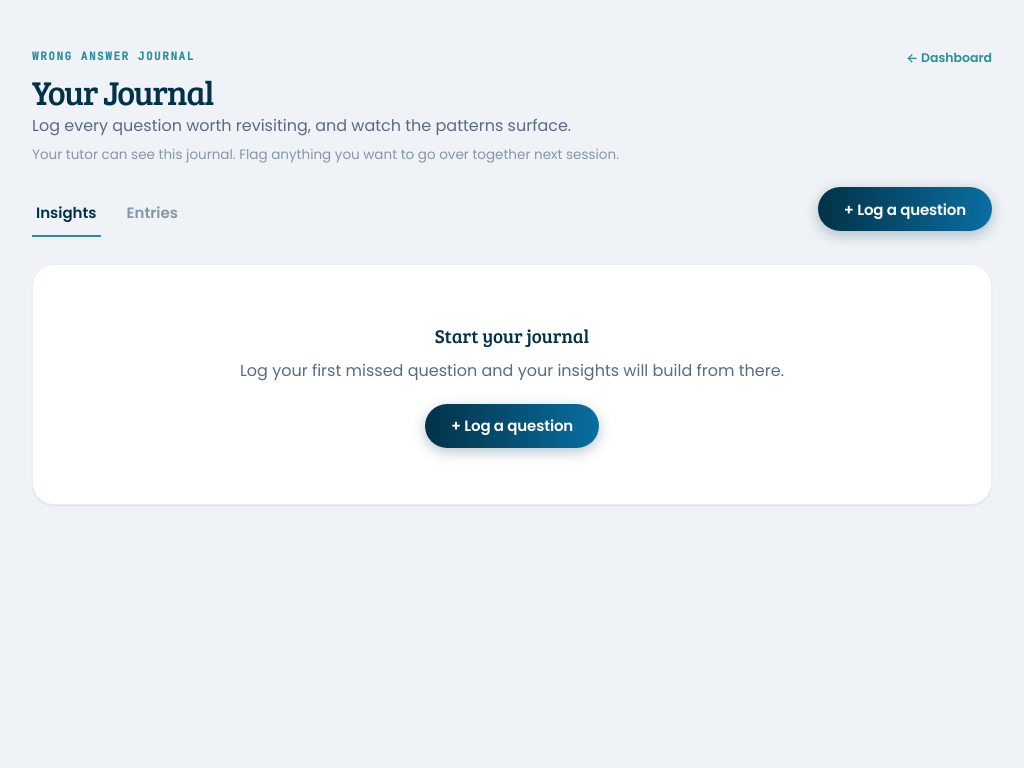
Journal — log modal › inserts a matched LR entry with the bank classification
Click the 1st button "+ Log a question".
click(905, 209)  # box [818,187,992,231]
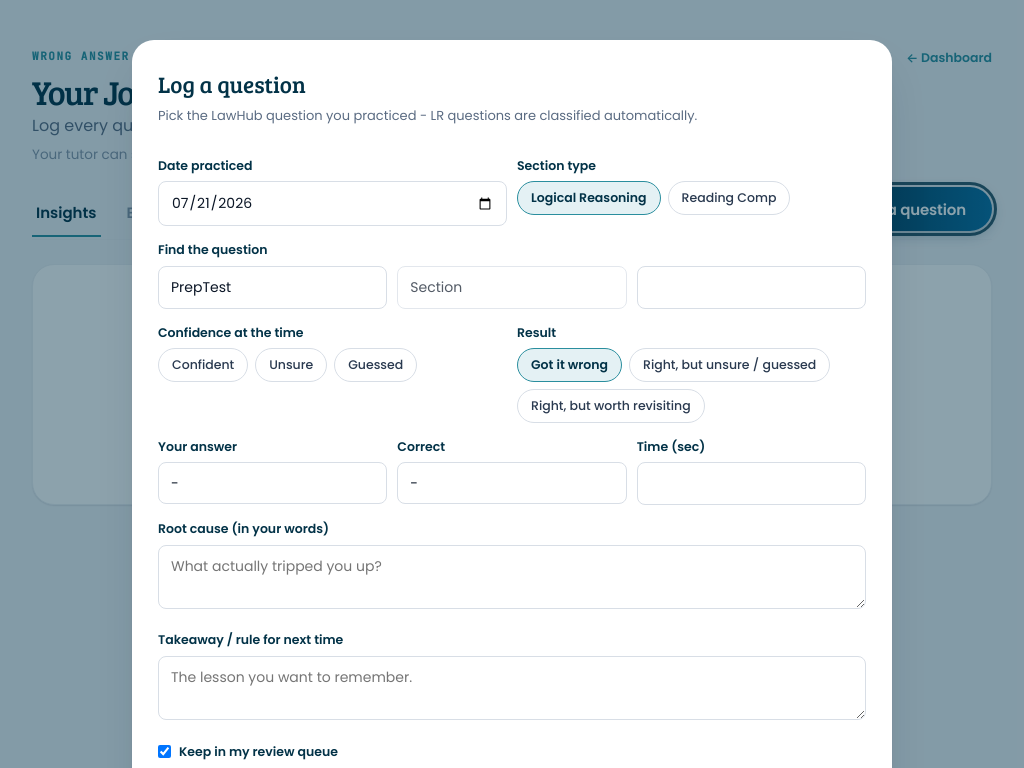
Select "PT 120" in the dropdown named "PrepTest" at (273, 287), box [158,266,387,308]
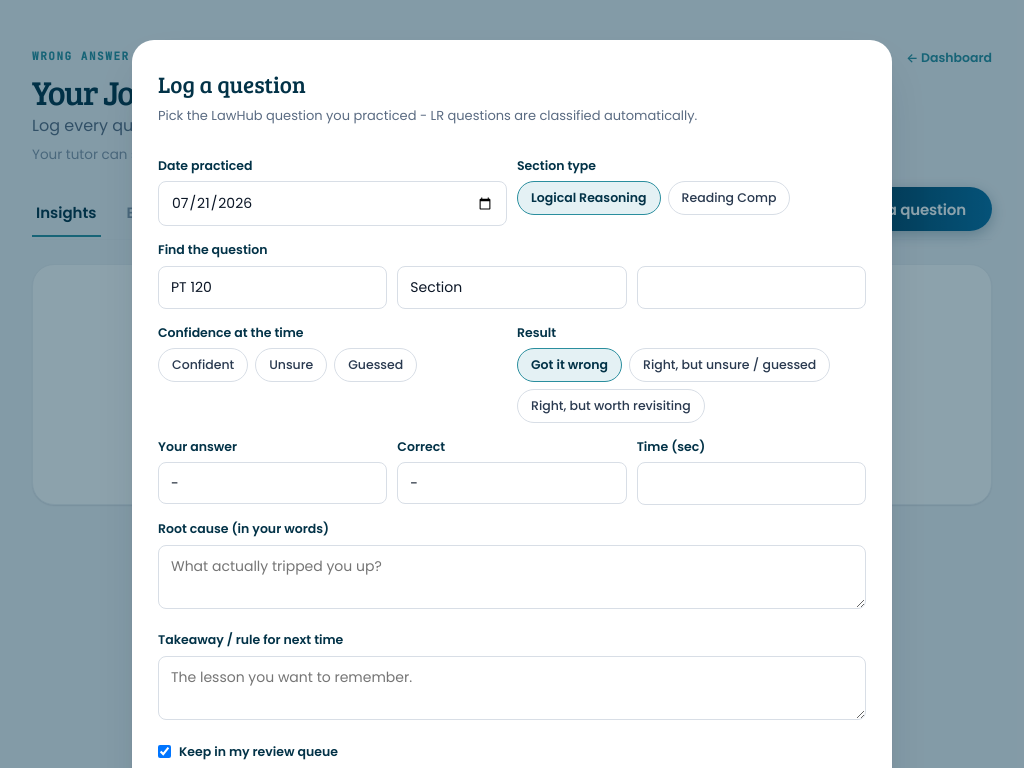
Select "Section 2" in the dropdown named "Section" at (512, 287), box [397,266,627,308]
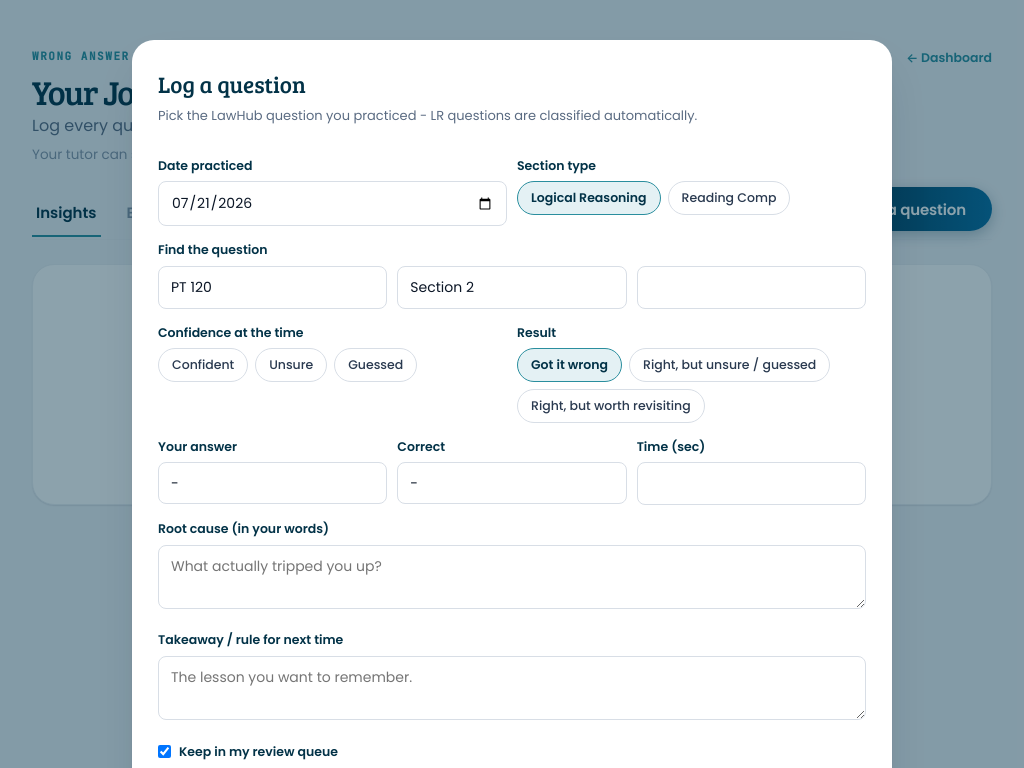
Type "5" into the field named "Question number".
click(751, 287); type("5")  # box [637,266,866,308]
(page scrolled)
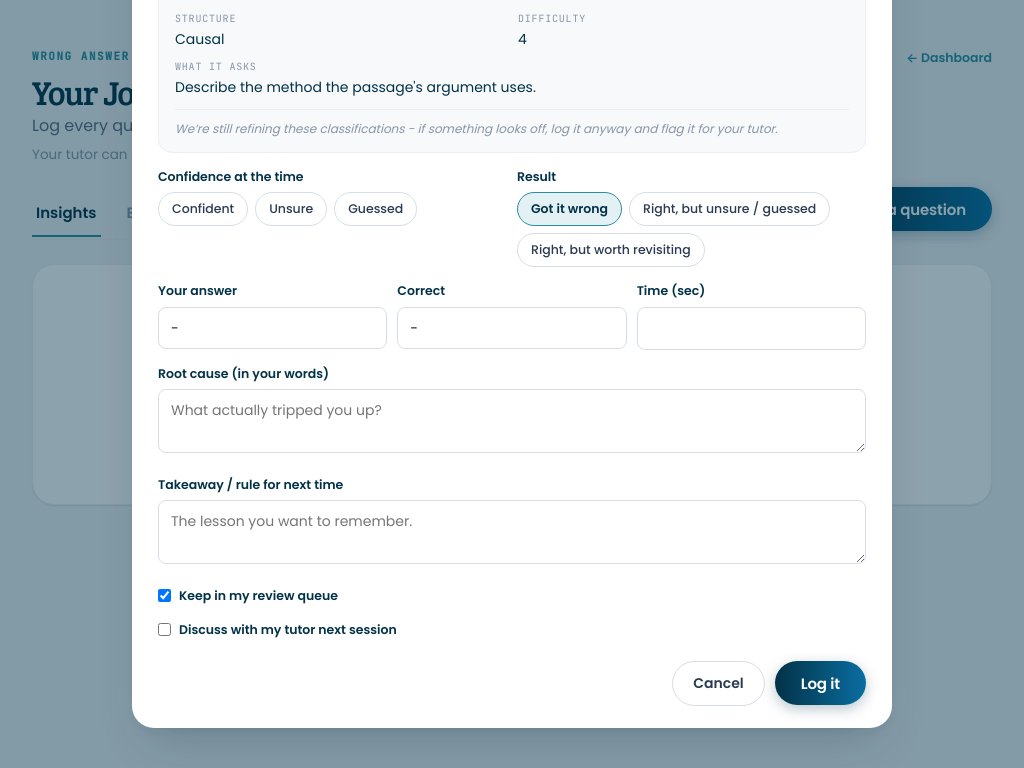
Click the button "Log it".
click(820, 683)  # box [775,661,866,705]
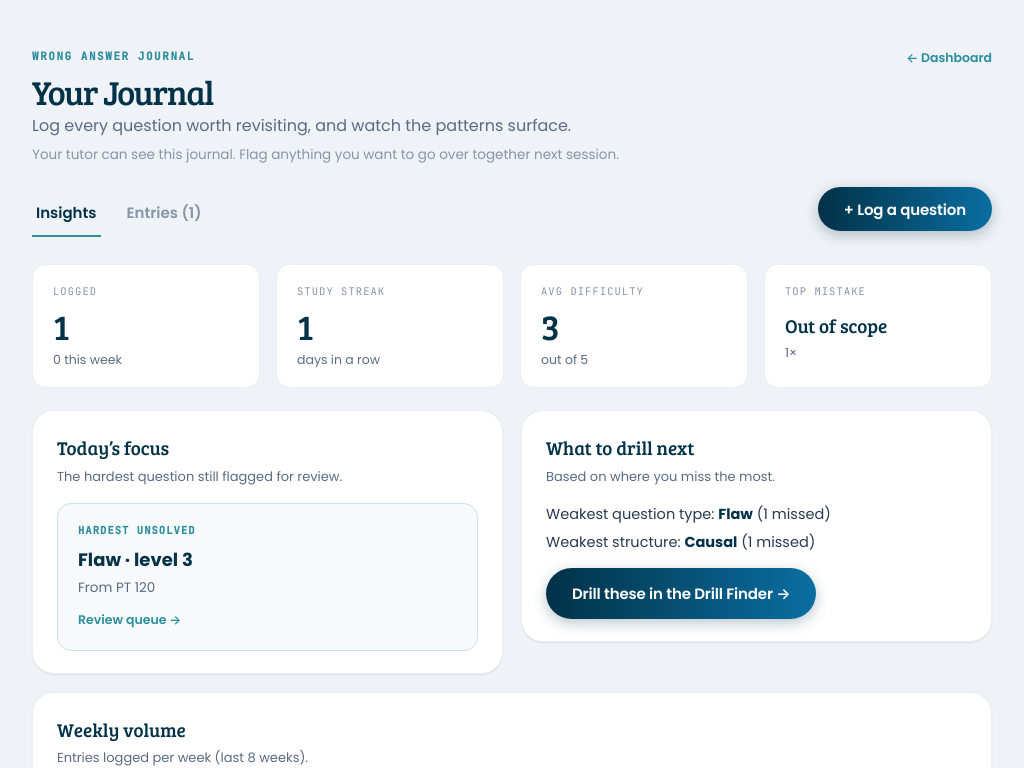
Now the button "Entries (1)" is shown, box [122,190,206,237]
